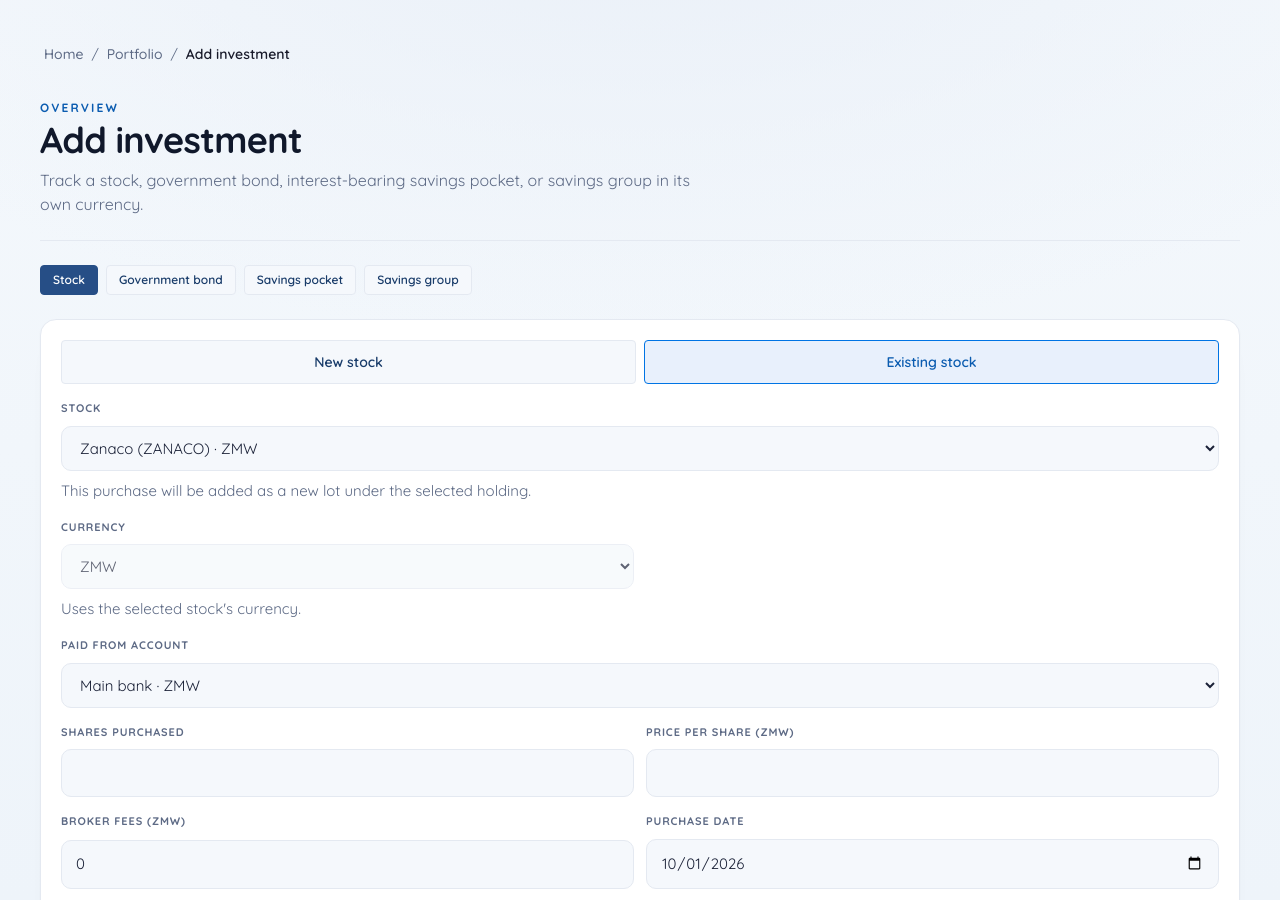
Test case: AddInvestmentPage › fills new-stock details from the LuSE directory
Click the button "New stock". click: [348, 362]
box: [61,340,636,384]
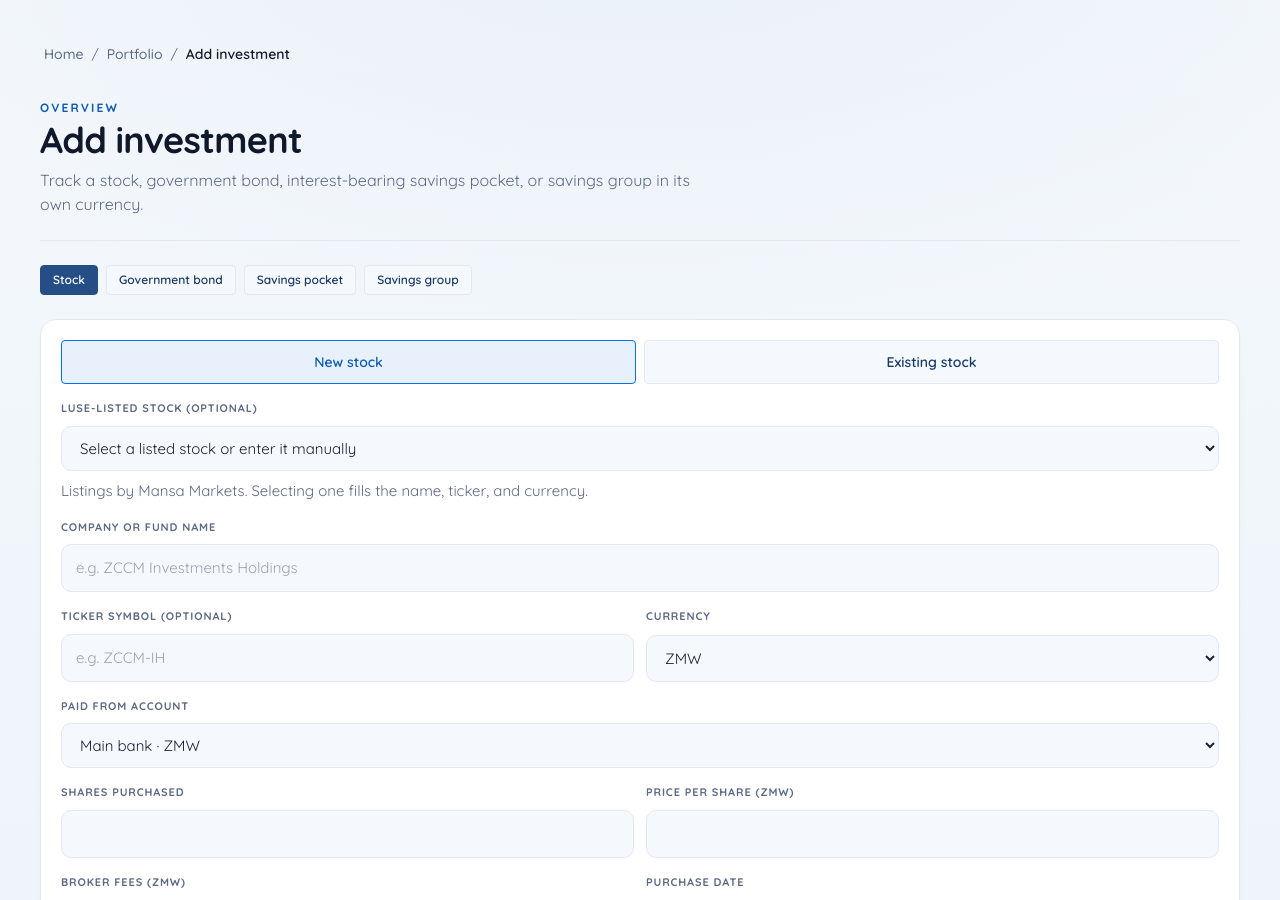
Select "ATEL — Airtel Networks Zambia" in the dropdown labelled "LuSE-listed stock (optional)". click: [640, 448]
box: [61,426,1219,471]
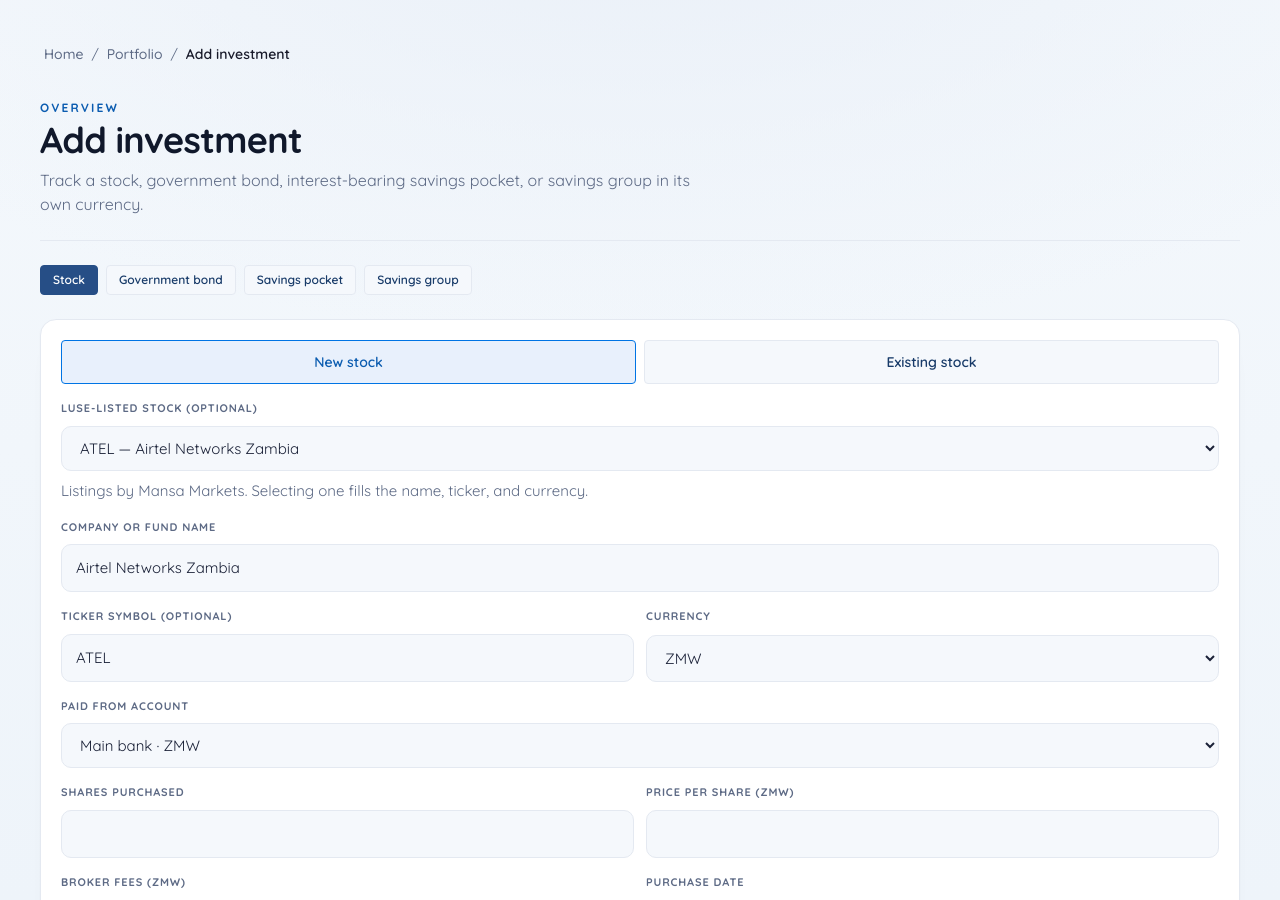
Expected: the dropdown labelled "Currency" shows "ZMW", [646,635,1219,682]
Expected: the field labelled "Company or fund name" holds "Airtel Networks Zambia", [61,544,1219,592]
Expected: the field labelled "Ticker symbol (optional)" holds "ATEL", [61,634,634,682]
